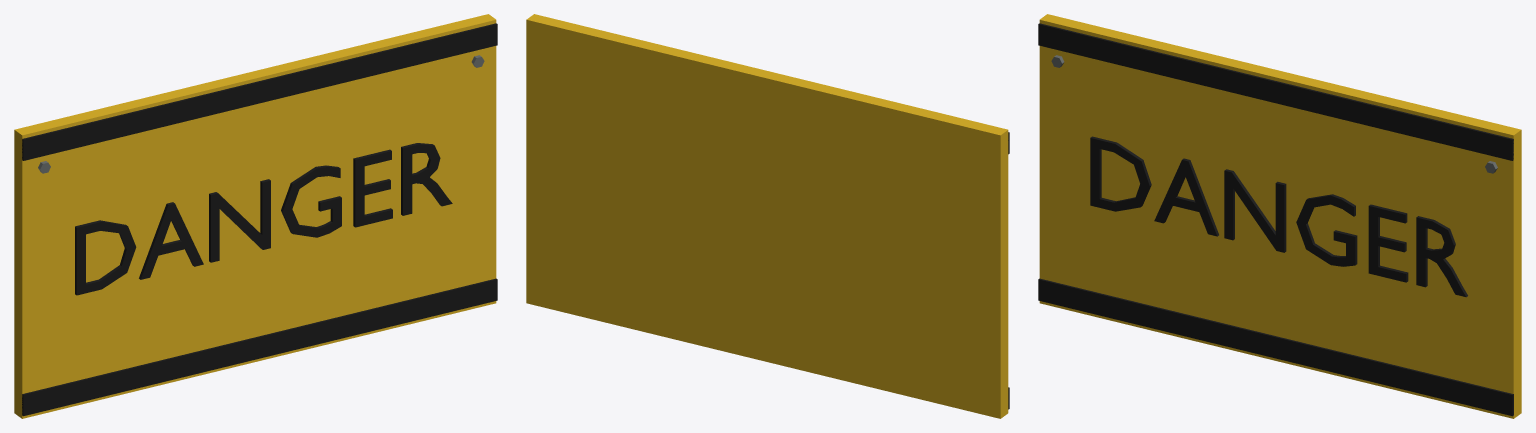
Rendered from warning_sign.glb.
3 views of the same model, side by side, from view 1: azimuth 30°, elevation 25°; view 2: azimuth 150°, elevation 25°; view 3: azimuth 330°, elevation 25° (orthographic).
Visible parts, largest first — view 1: warning_sign; view 2: warning_sign; view 3: warning_sign.
Part boxes in pixels (<box>): warning_sign: <box>14,14,497,418</box>; warning_sign: <box>526,14,1009,418</box>; warning_sign: <box>1038,14,1521,418</box>.
Bounding box in the file's own units: 0.7 × 0.4 × 0.028.
